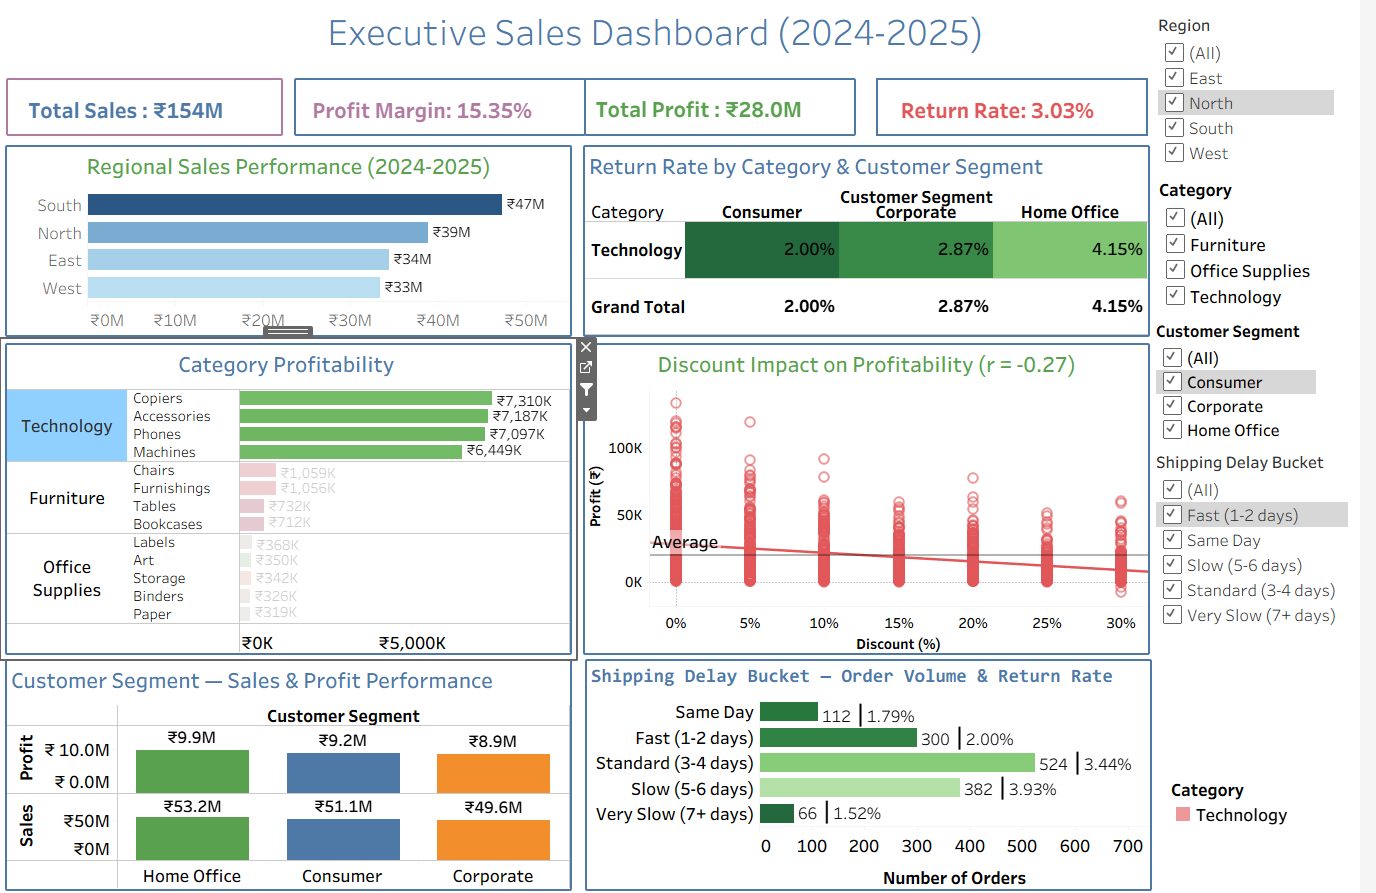

The page's visual inventory and layout, read from the dashboard file:
{"tool":"tableau","page":{"name":"Executive Sales Dashboard.twbx","canvas":[1366,900],"ordinal":0},"visuals":[{"type":"text","box":[303,11,716,43]},{"type":"filter","title":" Regional Performance ","param":"[federated.1xi87aq08oqs041992yq30zyc1hx].[none:region:nk]","box":[1164,15,176,154]},{"type":"worksheet","title":"KPI 1: Total Sales","mark":"Automatic","box":[8,75,285,66]},{"type":"worksheet","title":"KPI 3: Profit Margin","mark":"Automatic","box":[296,75,300,66]},{"type":"worksheet","title":"KPI 2: Total Profit","mark":"Automatic","box":[586,75,280,66]},{"type":"worksheet","title":"KPI 4: Return Rate","mark":"Automatic","box":[878,75,280,66]},{"type":"worksheet","title":" Regional Performance ","mark":"Automatic","rows":["region"],"cols":["sales"],"box":[7,142,575,200]},{"type":"worksheet","title":"Return Analysis ","mark":"Square","rows":["category"],"cols":["customer_segment"],"box":[585,142,575,200]},{"type":"filter","title":"Return Analysis ","param":"[federated.1xi87aq08oqs041992yq30zyc1hx].[none:category:nk]","box":[1165,179,160,134]},{"type":"filter","title":"Customer Segment ","param":"[federated.1xi87aq08oqs041992yq30zyc1hx].[none:customer_segment:nk]","box":[1162,321,160,125]},{"type":"worksheet","title":"Category Profitability ","mark":"Automatic","rows":["category","sub_category"],"cols":["profit"],"box":[7,340,575,320]},{"type":"worksheet","title":"Discount vs Profit","mark":"Automatic","rows":["profit"],"cols":["discount"],"box":[585,340,575,320]},{"type":"filter","title":"Shipping Delay Bucket","param":"[federated.1xi87aq08oqs041992yq30zyc1hx].[none:Calculation_0780394652045316:nk]","box":[1162,452,192,179]},{"type":"worksheet","title":"Customer Segment ","mark":"Automatic","rows":["profit","sales"],"cols":["customer_segment"],"box":[7,656,575,240]},{"type":"worksheet","title":"Shipping Delay Bucket","mark":"Automatic","rows":["Calculation_0780394652045316"],"cols":["order_id"],"box":[587,656,575,240]},{"type":"legend","title":"Discount vs Profit","param":"[federated.1xi87aq08oqs041992yq30zyc1hx].[none:category:nk]","box":[1173,775,175,104]}]}

Visuals, with their boxes in screenshot pixels (x1, y1, x2, y2), scaled from the page's 1366x900 canvas onto the 1376x893 screenshot:
text: <region>305, 11, 1026, 54</region>
" Regional Performance " filter: <region>1173, 15, 1350, 168</region>
"KPI 1: Total Sales" worksheet: <region>8, 74, 295, 140</region>
"KPI 3: Profit Margin" worksheet: <region>298, 74, 600, 140</region>
"KPI 2: Total Profit" worksheet: <region>590, 74, 872, 140</region>
"KPI 4: Return Rate" worksheet: <region>884, 74, 1166, 140</region>
" Regional Performance " worksheet: <region>7, 141, 586, 339</region>
"Return Analysis " worksheet (Square marks): <region>589, 141, 1168, 339</region>
"Return Analysis " filter: <region>1174, 178, 1335, 311</region>
"Customer Segment " filter: <region>1171, 319, 1332, 443</region>
"Category Profitability " worksheet: <region>7, 337, 586, 655</region>
"Discount vs Profit" worksheet: <region>589, 337, 1168, 655</region>
"Shipping Delay Bucket" filter: <region>1171, 448, 1364, 626</region>
"Customer Segment " worksheet: <region>7, 651, 586, 889</region>
"Shipping Delay Bucket" worksheet: <region>591, 651, 1171, 889</region>
"Discount vs Profit" legend: <region>1182, 769, 1358, 872</region>
